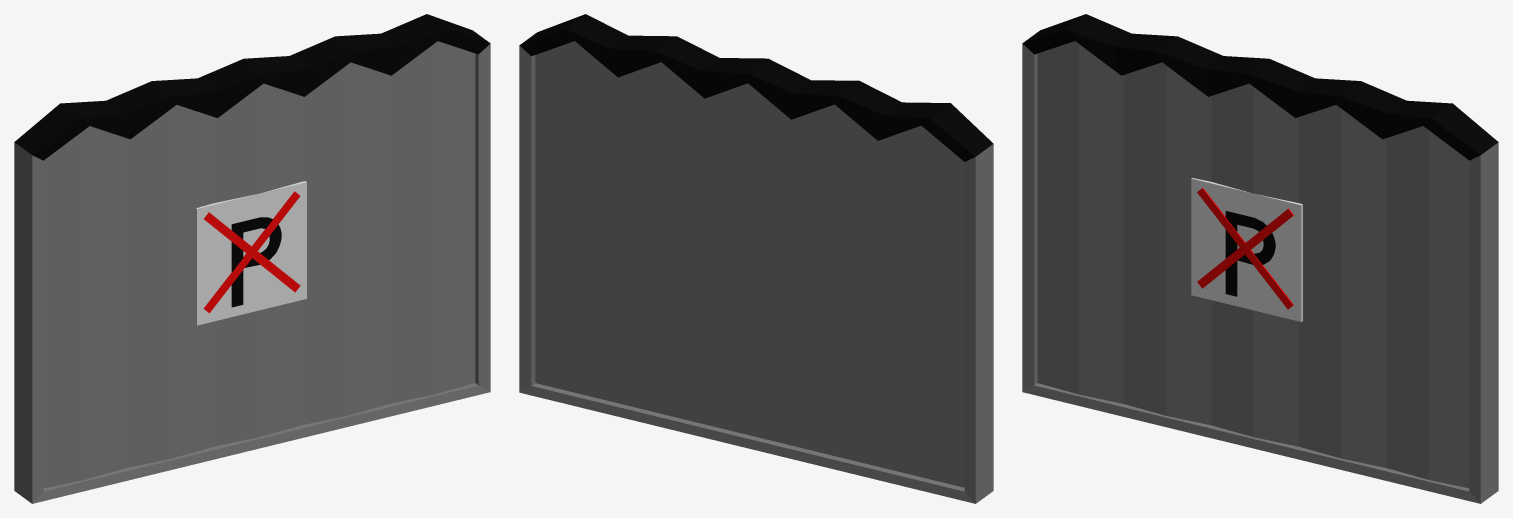
The model's file is Door_1.fbx.
The picture shows the model from 3 angles, left to right: view 1: azimuth 30°, elevation 25°; view 2: azimuth 150°, elevation 25°; view 3: azimuth 330°, elevation 25°; orthographic projection.
Parts seen in each view (by area): view 1: Door_1; view 2: Door_1; view 3: Door_1.
Boxes of the visible parts, <box> form: Door_1: <box>14,14,490,503</box>; Door_1: <box>519,14,993,503</box>; Door_1: <box>1022,14,1498,503</box>.
Size of the model in its own units: 2414 by 1893 by 190.
